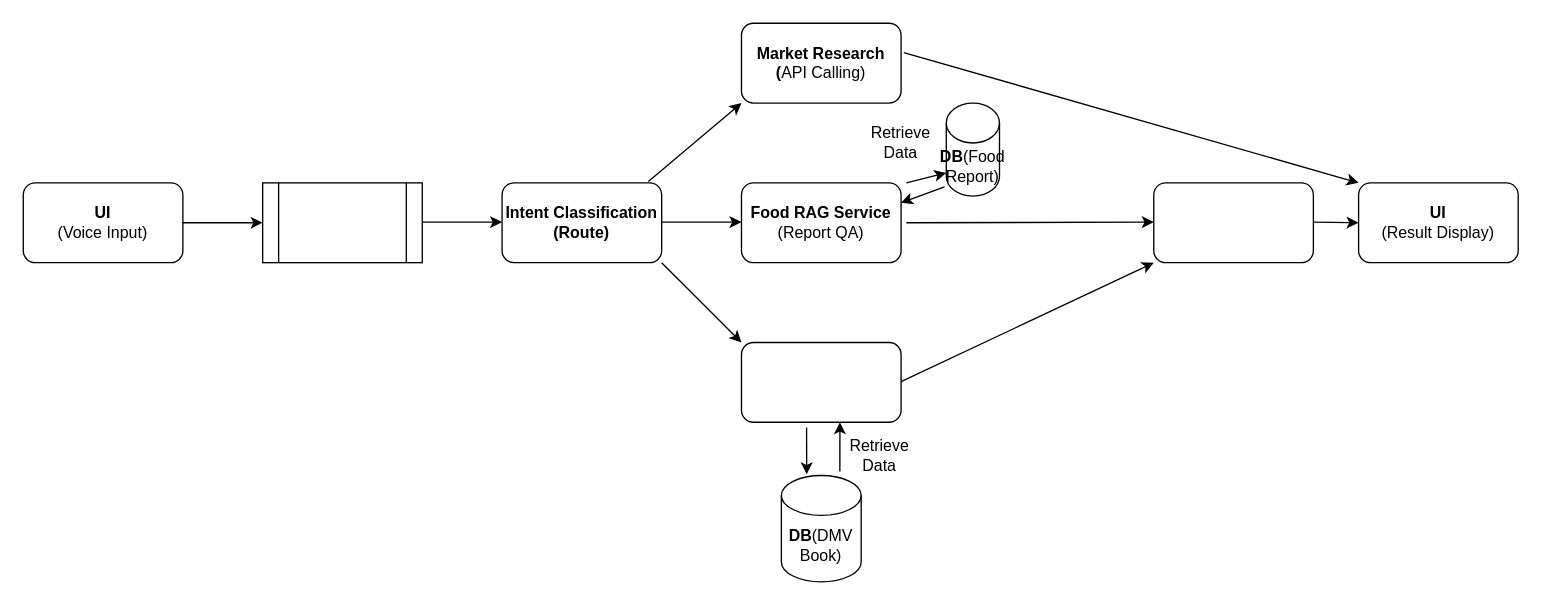
Some shapes in this 1541 by 605 pixel diagram are drawn without their labels. Here are the shapes that lost their labels. From the top down, the centre of each, then its label:
the point at 341,222: Input Process (Speech-to Text)
the point at 1232,222: LLM (Generate Answer)
the point at 820,381: DMV RAG Service (Handbook QA)
